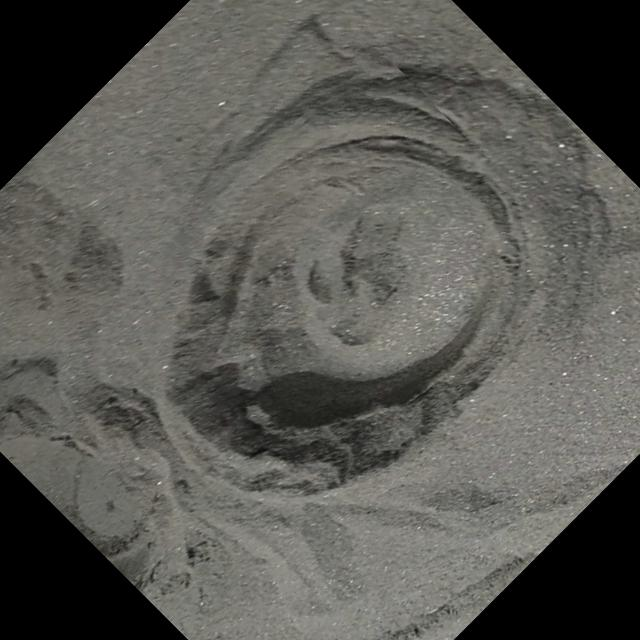C20: (172, 89, 529, 485), (0, 433, 149, 585)
